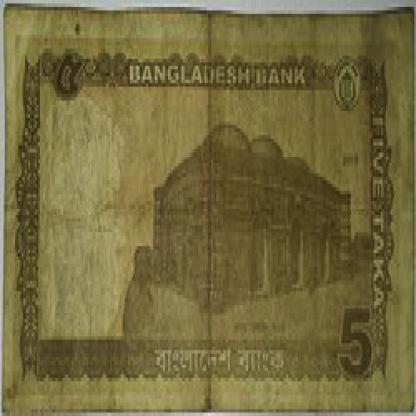Five Taka: (335, 295, 376, 388), (52, 38, 83, 104)
